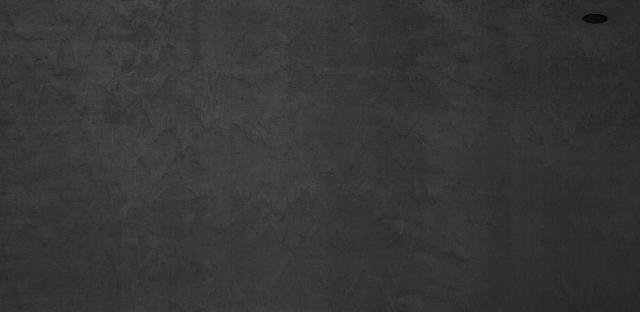punching_hole: (579, 11, 613, 27)
silk_spot: (5, 8, 571, 302)
